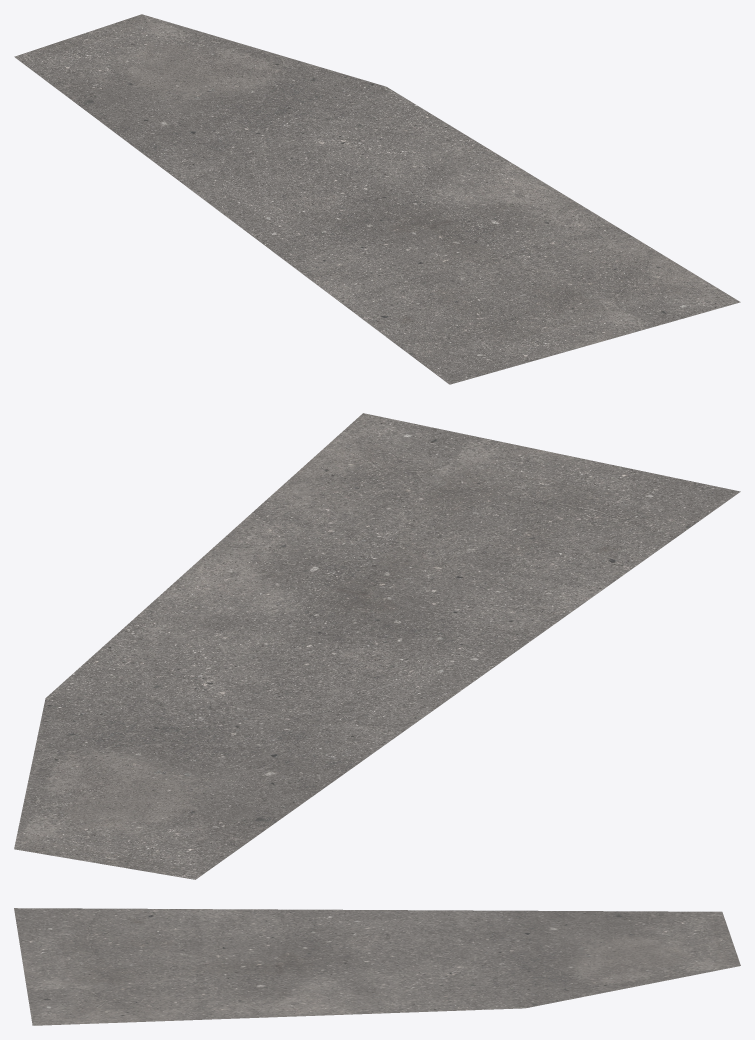
File: pisoprueba.glb
3 views of the same model, one above another, from view 1: azimuth 30°, elevation 25°; view 2: azimuth 150°, elevation 25°; view 3: azimuth 270°, elevation 25° (orthographic). The views are drawn at different scales.
Parts seen in each view (by area): view 1: road.009; view 2: road.009; view 3: road.009.
Part boxes in pixels (<box>): road.009: <box>14,14,740,384</box>; road.009: <box>14,413,740,879</box>; road.009: <box>14,908,740,1025</box>.
Bounding box in the file's own units: 80.88 × 0 × 211.
1 material, 1 textured.
